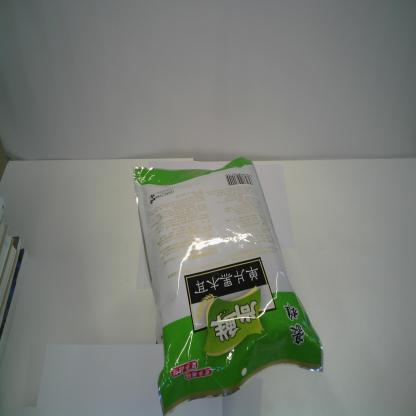Dried Food: (131, 154, 325, 416)
